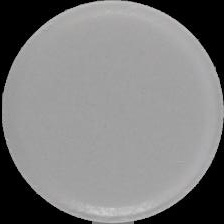69189-0168: (0, 0, 224, 224)
